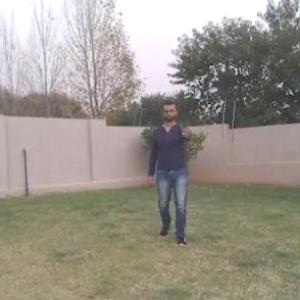takeoff-hand: (176, 115, 195, 144)
